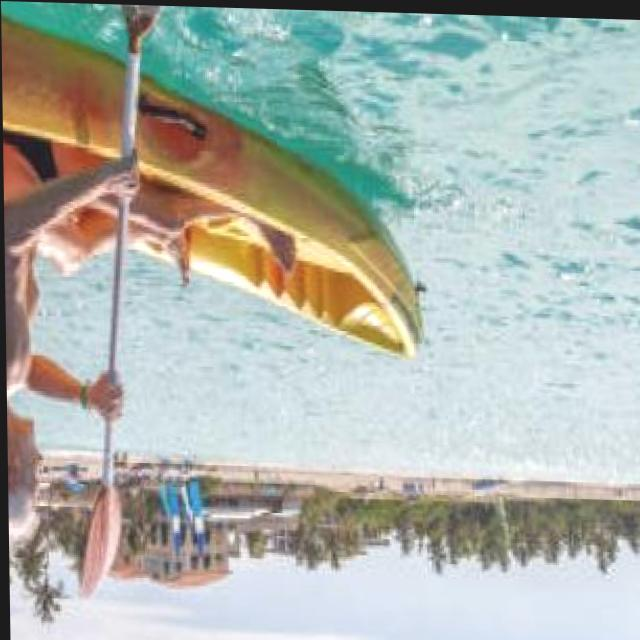kayak: (0, 15, 422, 352)
